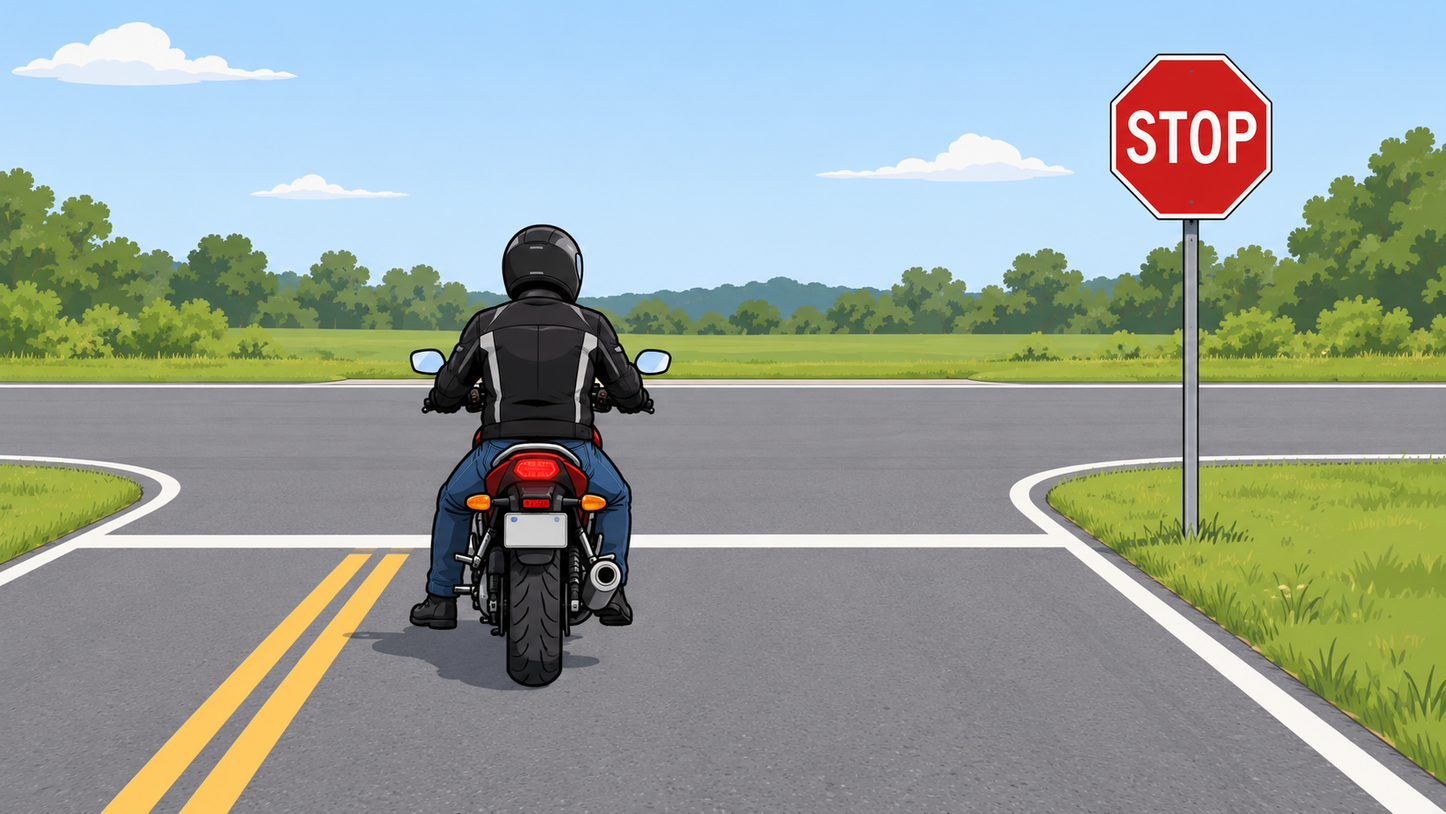motorcycle: (409, 223, 672, 687)
person: (419, 224, 650, 627)
stop_sign: (1110, 53, 1274, 218)
